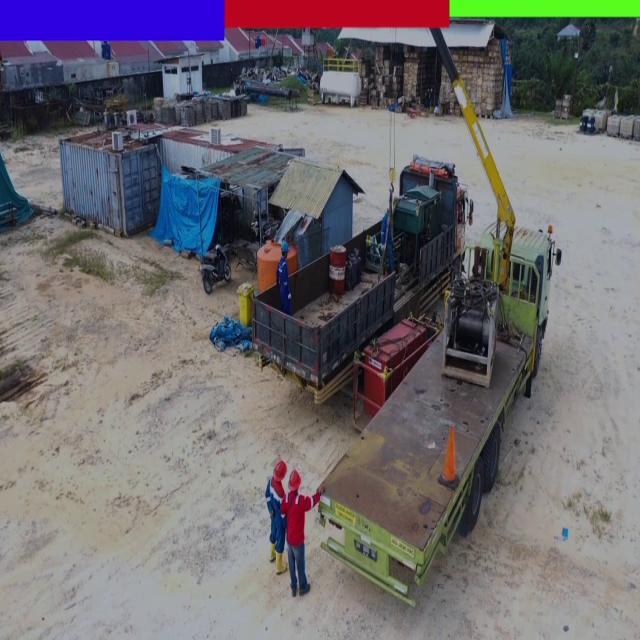Hardhat: (287, 470, 301, 492), (274, 457, 286, 480), (279, 241, 289, 255)
No Glove: (318, 483, 324, 494)
No Overall Suit: (282, 492, 321, 582), (277, 260, 290, 318)
Overall Suit: (266, 479, 285, 554)
Safety Boots: (275, 551, 287, 574), (268, 541, 276, 562)
